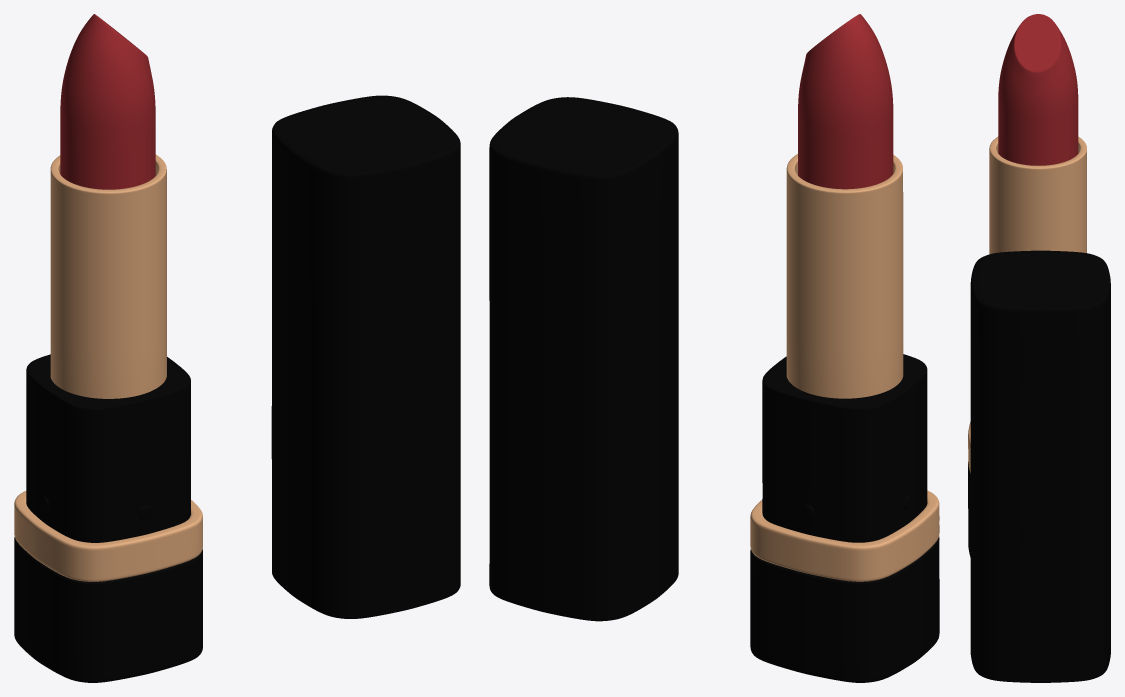
File: lipstick.glb
3 views of the same model, side by side, from view 1: azimuth 30°, elevation 25°; view 2: azimuth 150°, elevation 25°; view 3: azimuth 270°, elevation 25° (orthographic). The views are drawn at different scales.
Parts seen in each view (by area): view 1: Top.002, LipStick.001, Tube.001, Lipstick.002, Ring.002; view 2: Top.002, LipStick.001, Tube.001, Lipstick.002, Ring.002; view 3: Top.002, Lipstick.002, Tube.001, LipStick.001.
Boxes of the visible parts, bbox=[...] form: Top.002: bbox=[271, 95, 460, 618]; LipStick.001: bbox=[14, 354, 202, 682]; Tube.001: bbox=[50, 154, 166, 398]; Lipstick.002: bbox=[60, 14, 155, 189]; Ring.002: bbox=[14, 491, 202, 581]; Top.002: bbox=[489, 97, 678, 621]; LipStick.001: bbox=[750, 354, 939, 682]; Tube.001: bbox=[786, 154, 903, 398]; Lipstick.002: bbox=[798, 14, 893, 189]; Ring.002: bbox=[750, 490, 939, 581]; Top.002: bbox=[970, 250, 1110, 682]; Lipstick.002: bbox=[998, 14, 1078, 165]; Tube.001: bbox=[989, 136, 1086, 254]; LipStick.001: bbox=[968, 462, 970, 557].
Bounding box in the file's own units: 1.4 × 2.09 × 0.5111.
